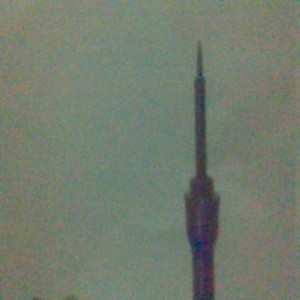solder: (185, 42, 222, 300)
